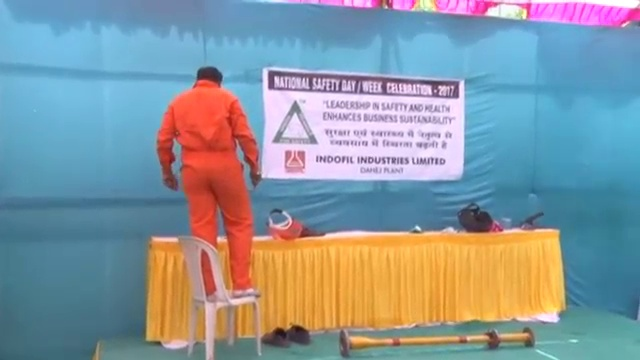helmet_off: (192, 62, 225, 92)
person: (154, 63, 264, 300)
